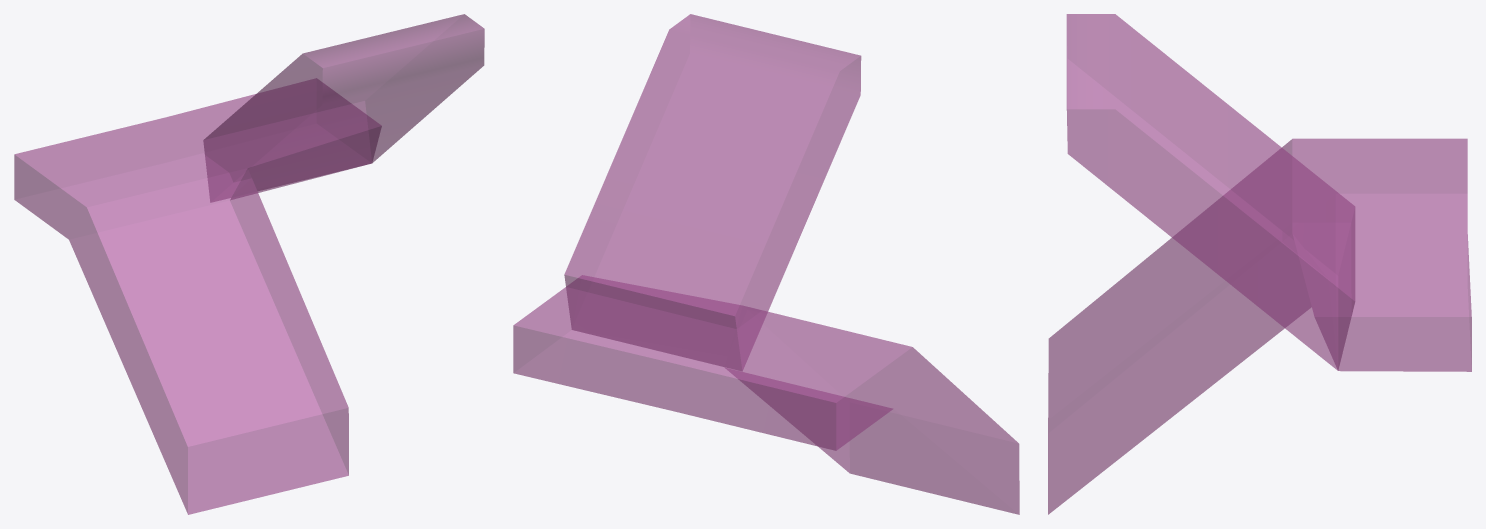
Rendered from SM_Bld_Stairs_05_Collision.fbx.
3 renders of one model, left to right at view 1: azimuth 30°, elevation 25°; view 2: azimuth 150°, elevation 25°; view 3: azimuth 270°, elevation 25°, orthographic. The views are drawn at different scales.
Parts seen in each view (by area): view 1: SM_Bld_Stairs_05_Collision; view 2: SM_Bld_Stairs_05_Collision; view 3: SM_Bld_Stairs_05_Collision.
Part boxes in pixels (x1,y1,x2,y2): SM_Bld_Stairs_05_Collision: (14, 14, 484, 514); SM_Bld_Stairs_05_Collision: (513, 14, 1019, 514); SM_Bld_Stairs_05_Collision: (1048, 14, 1471, 514).
Bounding box in the file's own units: 268 × 342 × 268.
